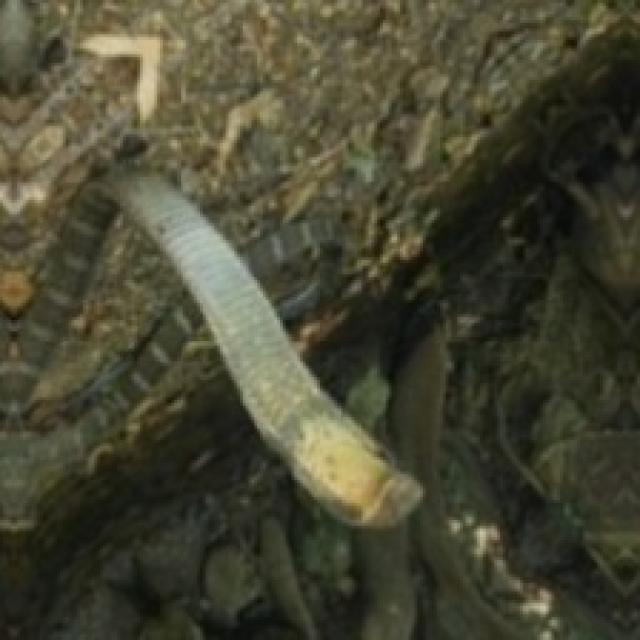king cobra: (114, 171, 420, 526)
